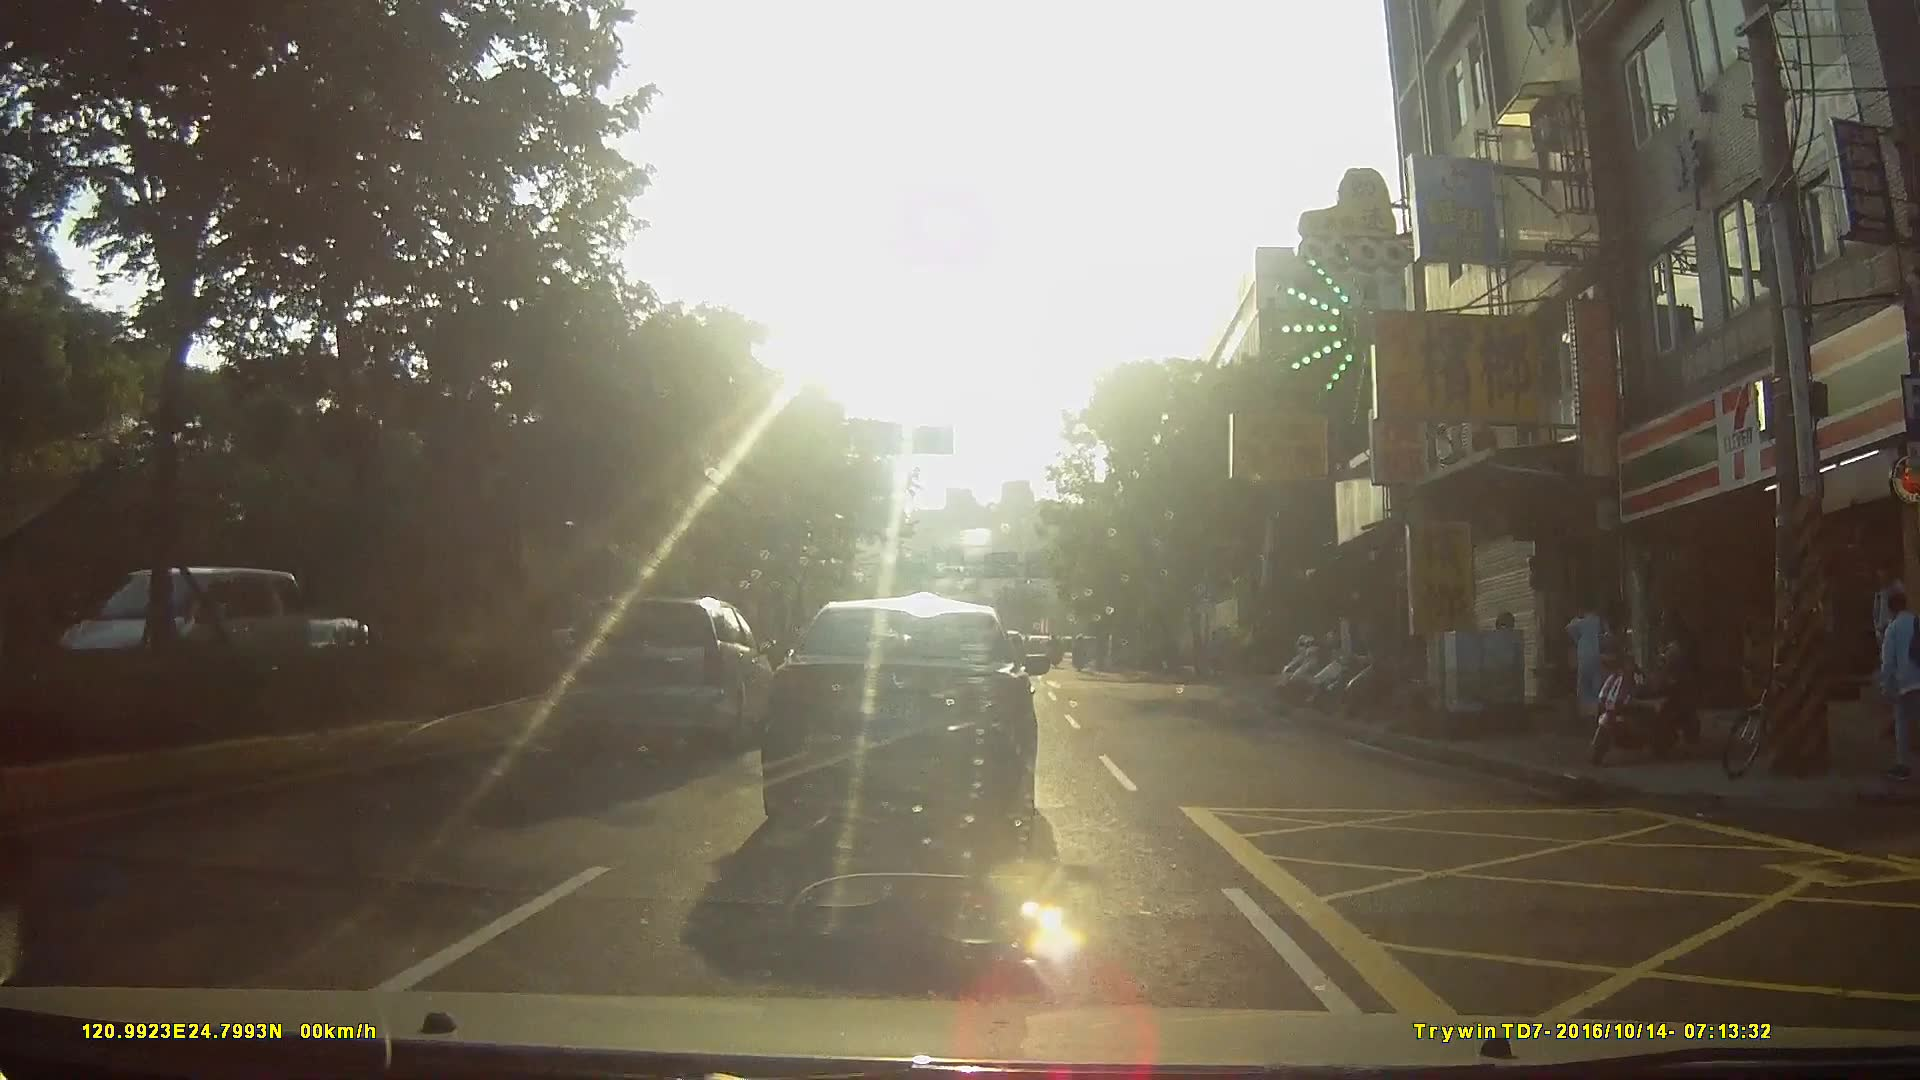pedestrian: (1874, 595, 1920, 780), (1651, 617, 1701, 762), (1558, 599, 1616, 723)
vehicle: (756, 599, 1050, 844), (58, 567, 312, 711), (568, 592, 783, 748)
